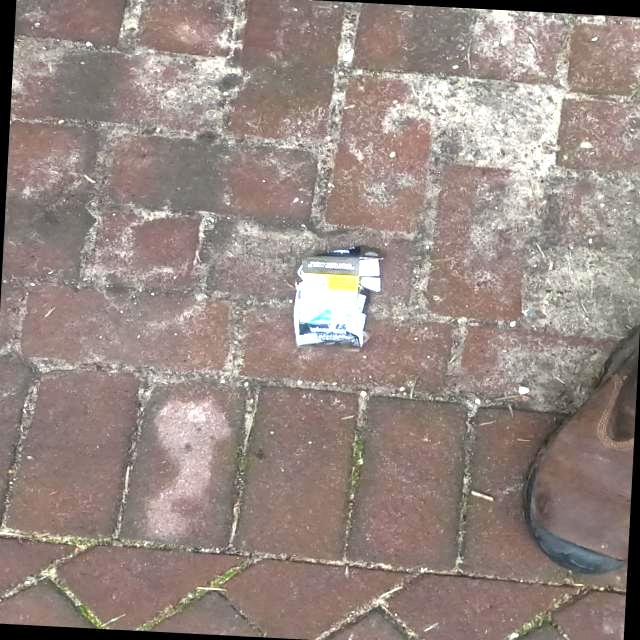Paper: (290, 242, 386, 352)
